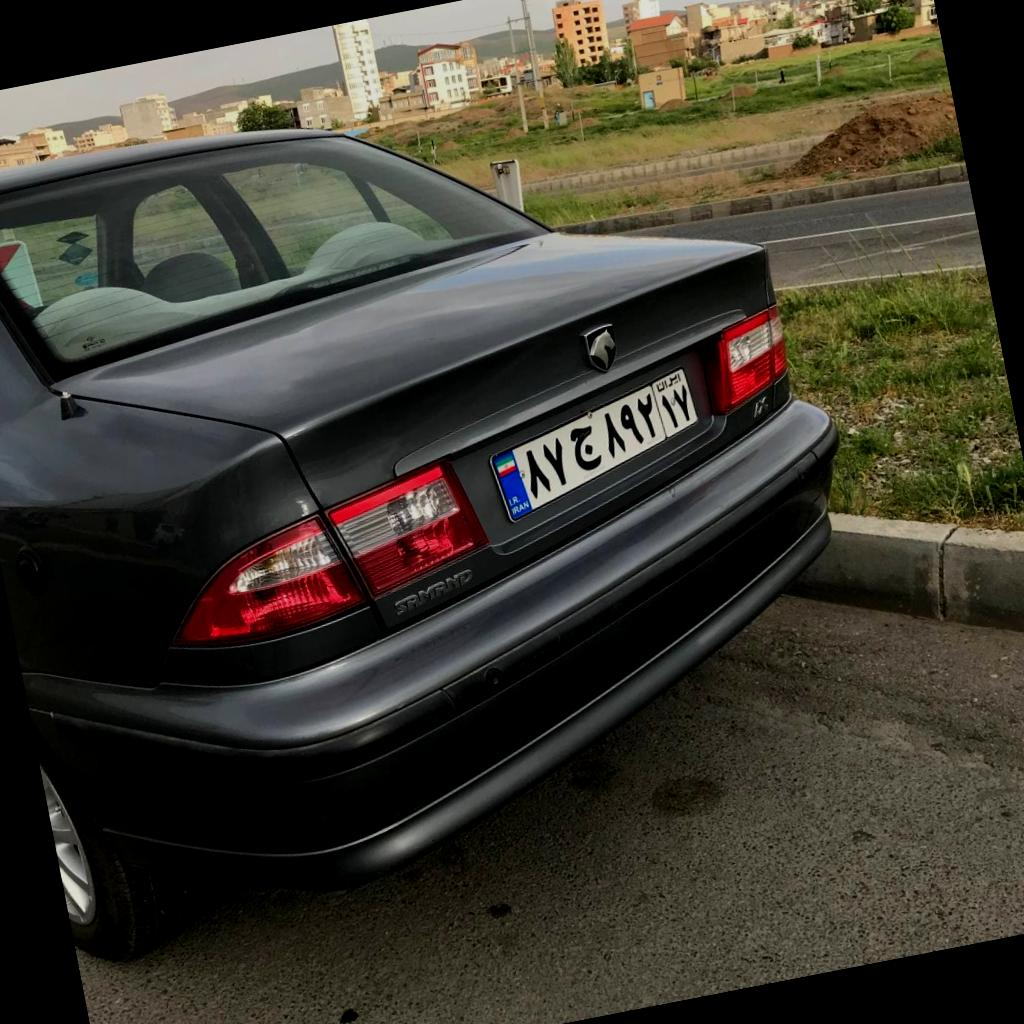Plates: (489, 366, 699, 521)
